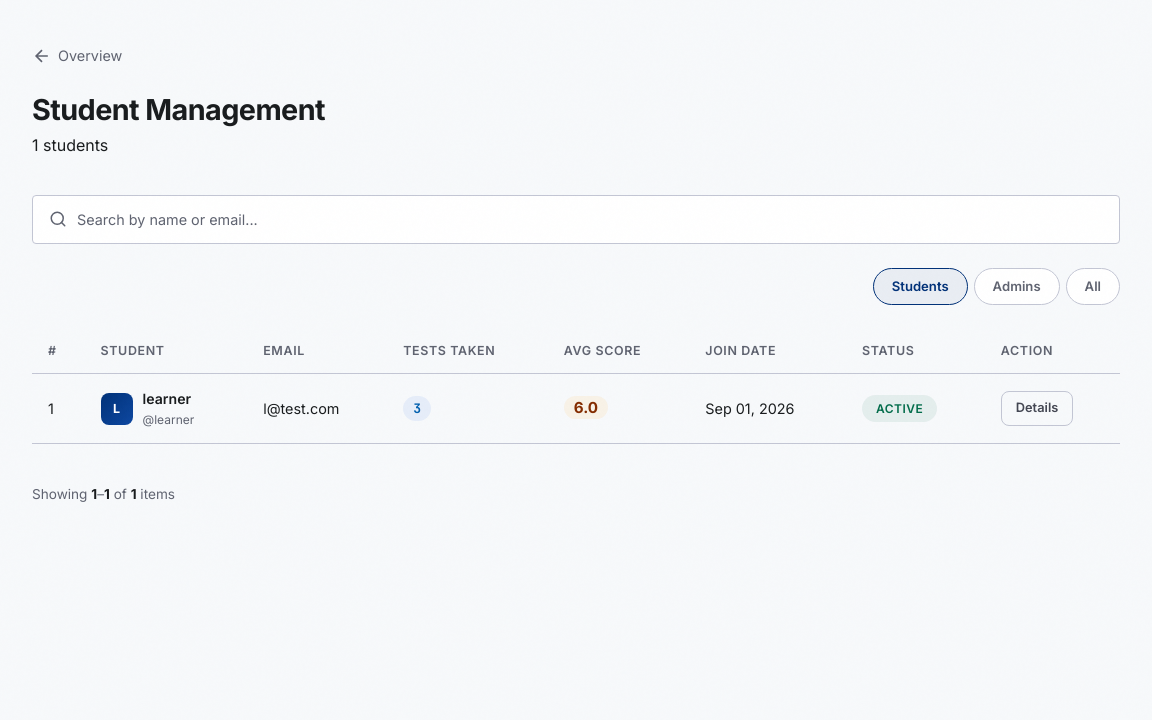
Test case: AdminUsersPage account management › shows a learner's target bands but not an admin's, and names the list after the tab
The image size is (1152, 720).
Expected: the heading "Student Management" is shown, x1=32 y1=87 x2=325 y2=133
Click the button "Details" at (1037, 409), box x1=1001 y1=391 x2=1073 y2=426
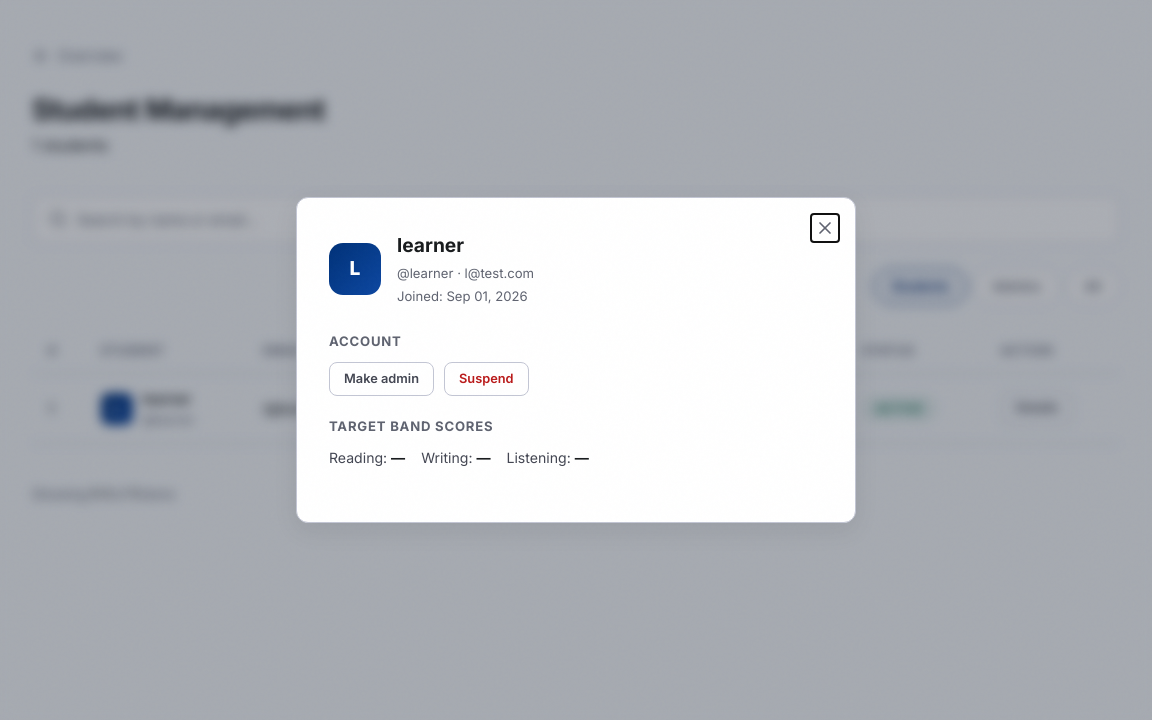
Expected: the heading "Target Band Scores" is shown, x1=329 y1=418 x2=493 y2=434
Press Escape in the dialog named "Student details", box x1=296 y1=197 x2=856 y2=523
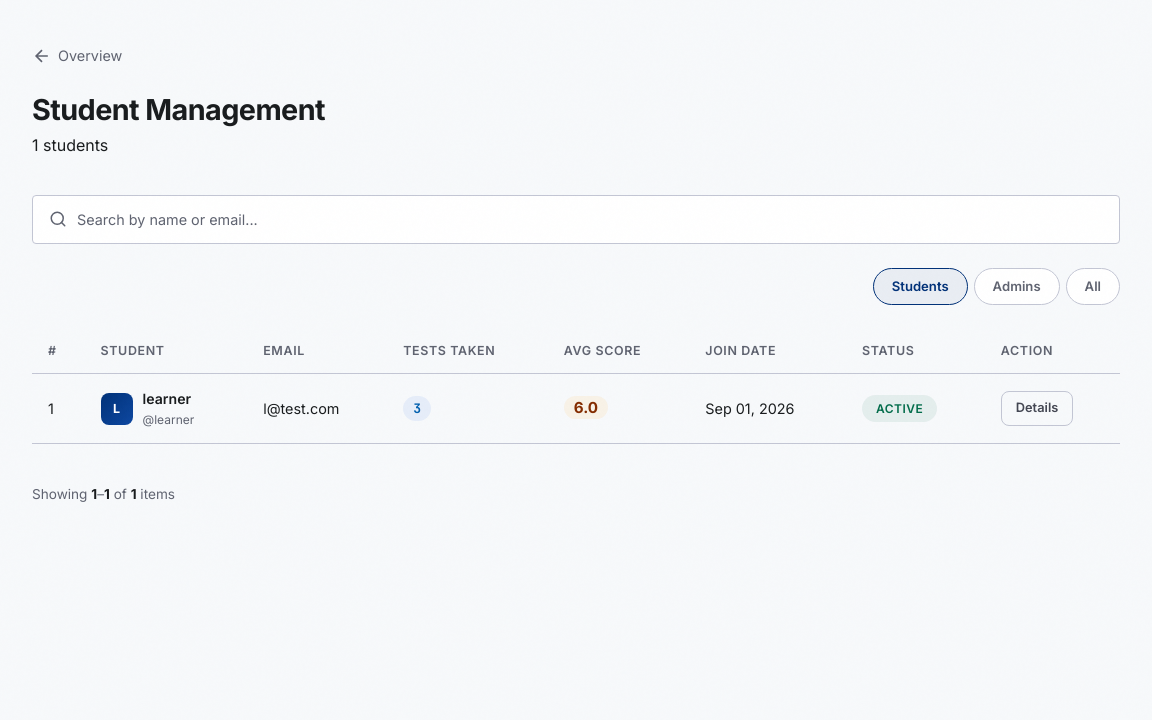
Expected: the dialog is gone
Click the button "Admins" at (1017, 286), box x1=974 y1=268 x2=1060 y2=305
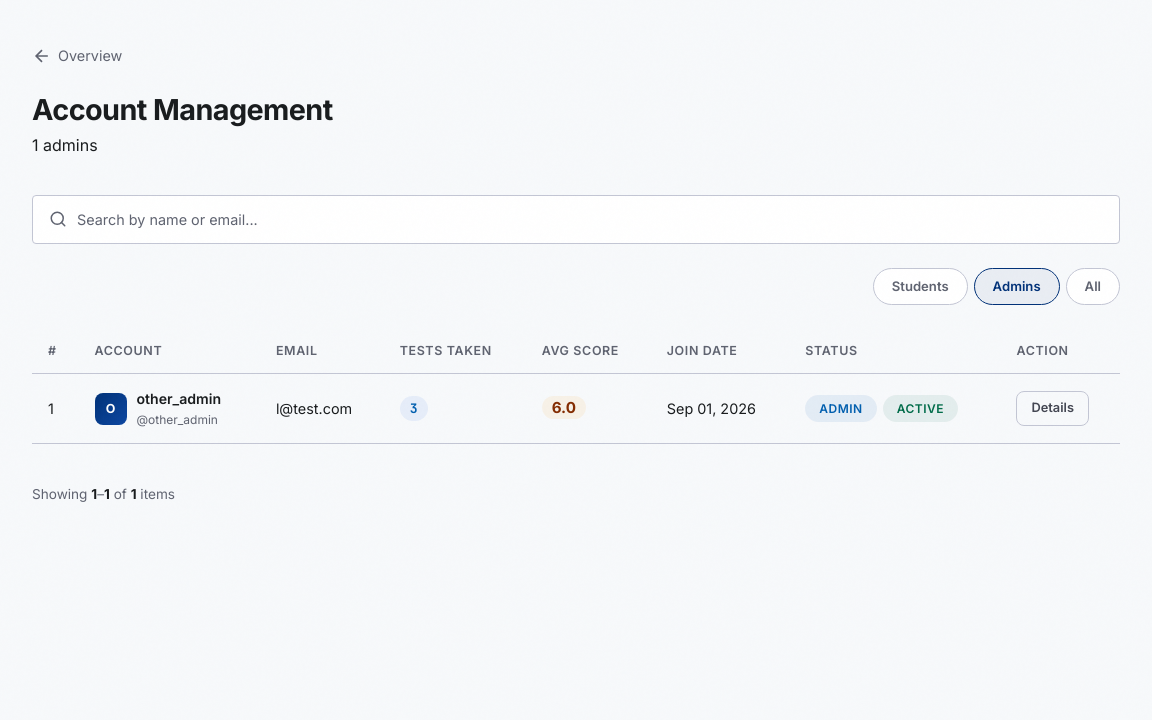
Expected: the heading "Account Management" is shown, x1=32 y1=87 x2=333 y2=133
Expected: the text "other_admin" is shown, x1=136 y1=388 x2=221 y2=410
Click the button "Details" at (1053, 409), box x1=1016 y1=391 x2=1089 y2=426
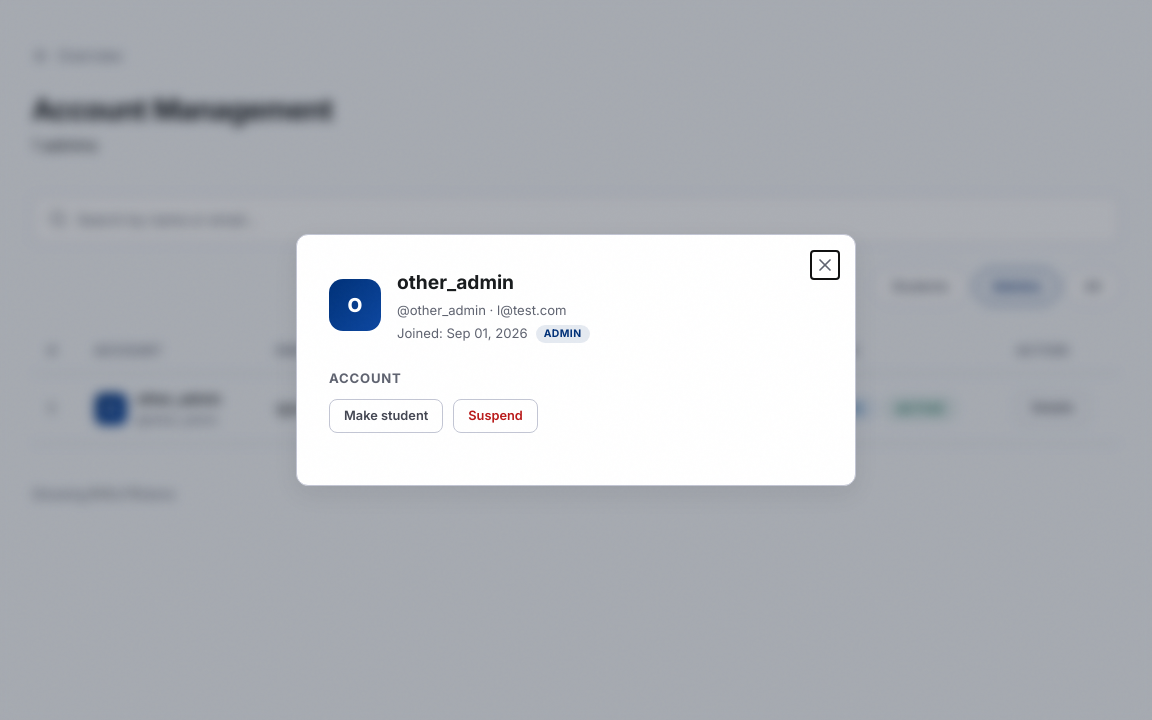
Expected: the heading "Target Band Scores" is not shown
Expected: the text "@other_admin · l@test.com" is shown, x1=397 y1=300 x2=590 y2=321
